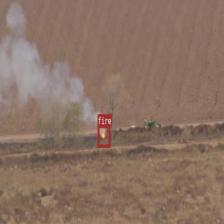fire: (97, 124, 110, 147)
